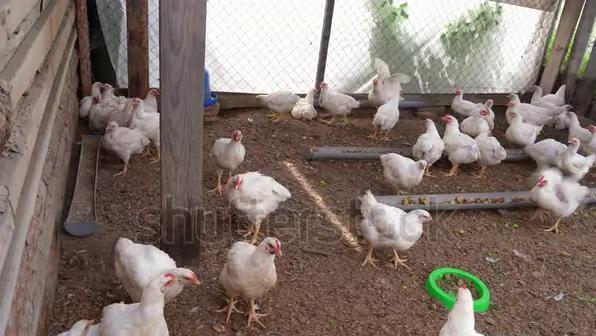Pollos: (112, 233, 200, 299), (357, 188, 435, 254), (216, 237, 283, 299), (225, 169, 292, 216), (530, 175, 583, 216), (379, 150, 428, 186), (440, 113, 473, 166), (105, 120, 148, 156), (319, 79, 358, 118), (255, 88, 302, 120), (210, 129, 248, 167), (376, 88, 405, 130), (561, 137, 591, 174), (413, 118, 439, 160), (505, 111, 539, 143), (450, 86, 492, 111), (368, 75, 398, 103)
